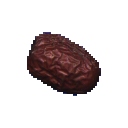gd: (19, 25, 124, 128)
